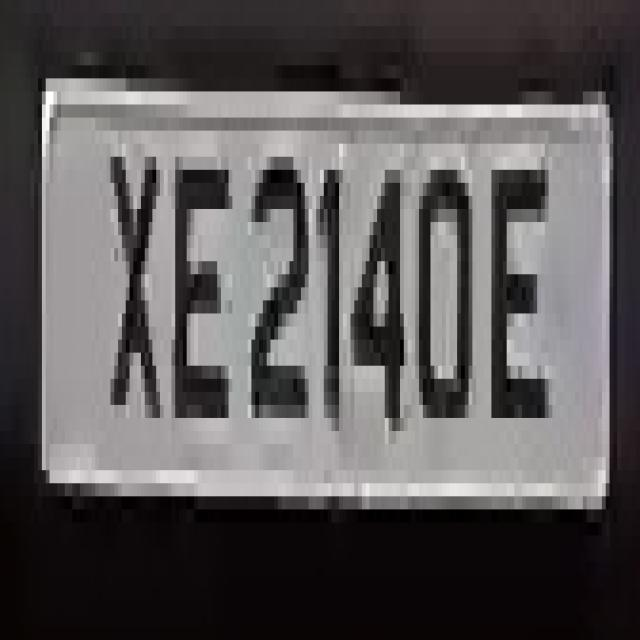0: (412, 144, 476, 470)
1: (308, 92, 362, 457)
2: (240, 131, 316, 496)
4: (347, 157, 415, 405)
E: (484, 131, 552, 496), (168, 105, 228, 457)
X: (95, 118, 168, 457)
